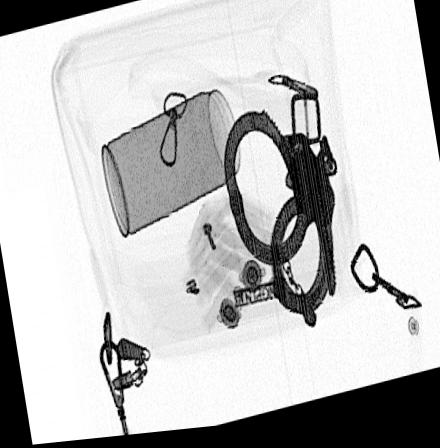HandCuffs: (220, 108, 339, 343)
